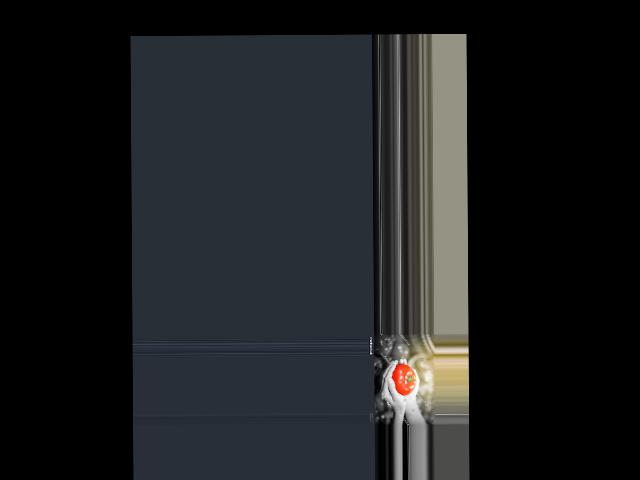tomato: (391, 364, 416, 396)
